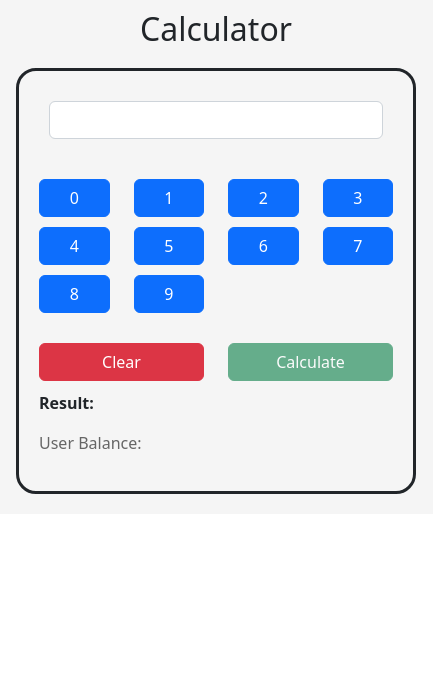
Test: Calculator › allows entering numbers
The width and height of the screenshot is (433, 685).
Note: Click on number buttons
Click the button "1" at (169,198), box [134,179,204,217]
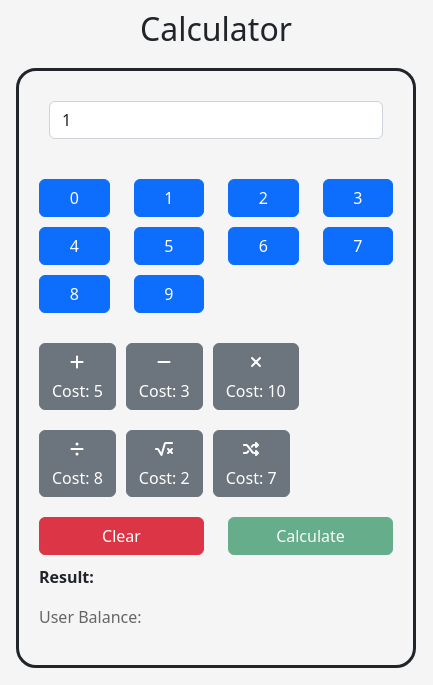
Click the button "2" at (263,198), box [228,179,298,217]
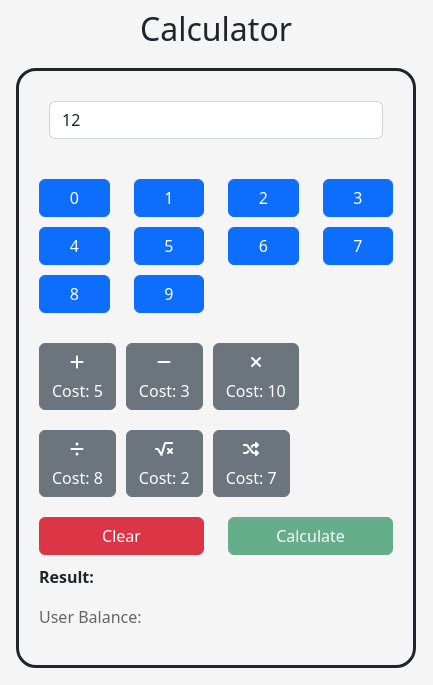
Click the button "3" at (358,198), box [322,179,393,217]
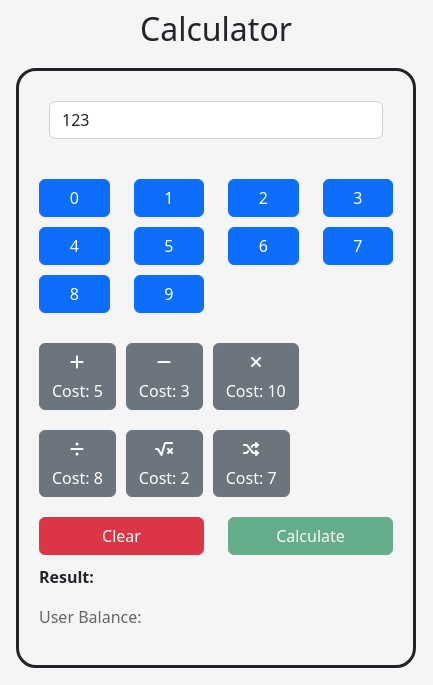
Check: the field holds "123", box [49,101,383,139]
